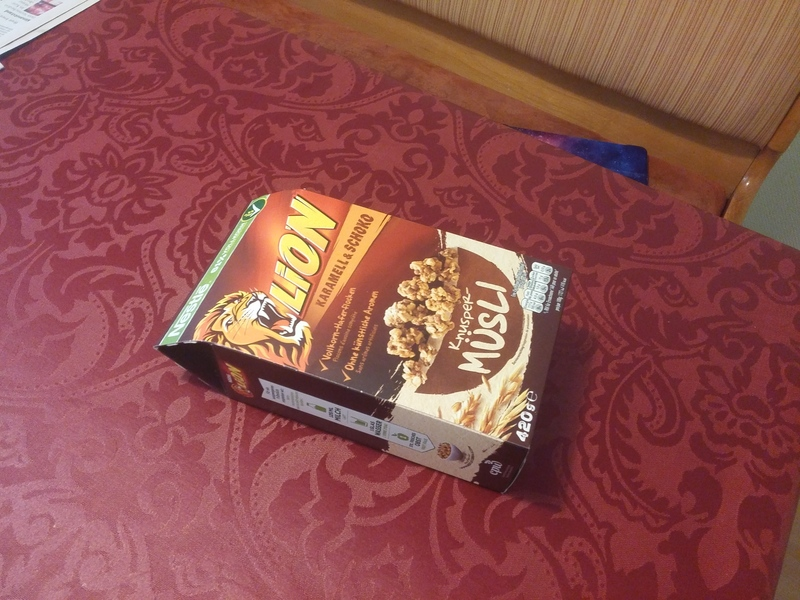cereals: (152, 188, 571, 497)
